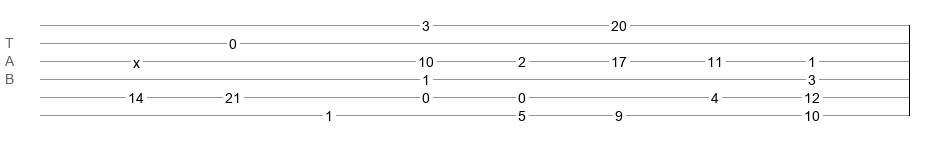0: (229, 36, 237, 46), (422, 90, 430, 100), (518, 90, 526, 100)
1: (325, 108, 333, 118), (422, 72, 430, 82), (808, 54, 816, 64)
10: (418, 54, 434, 64), (804, 108, 820, 118)
11: (707, 54, 723, 64)
12: (804, 90, 820, 100)
14: (128, 90, 144, 100)
17: (611, 54, 627, 64)
2: (518, 54, 526, 64)
20: (611, 18, 627, 28)
21: (225, 90, 241, 100)
3: (422, 18, 430, 28), (808, 72, 816, 82)
4: (711, 90, 719, 100)
5: (518, 108, 526, 118)
9: (615, 108, 623, 118)
x: (133, 55, 140, 63)
